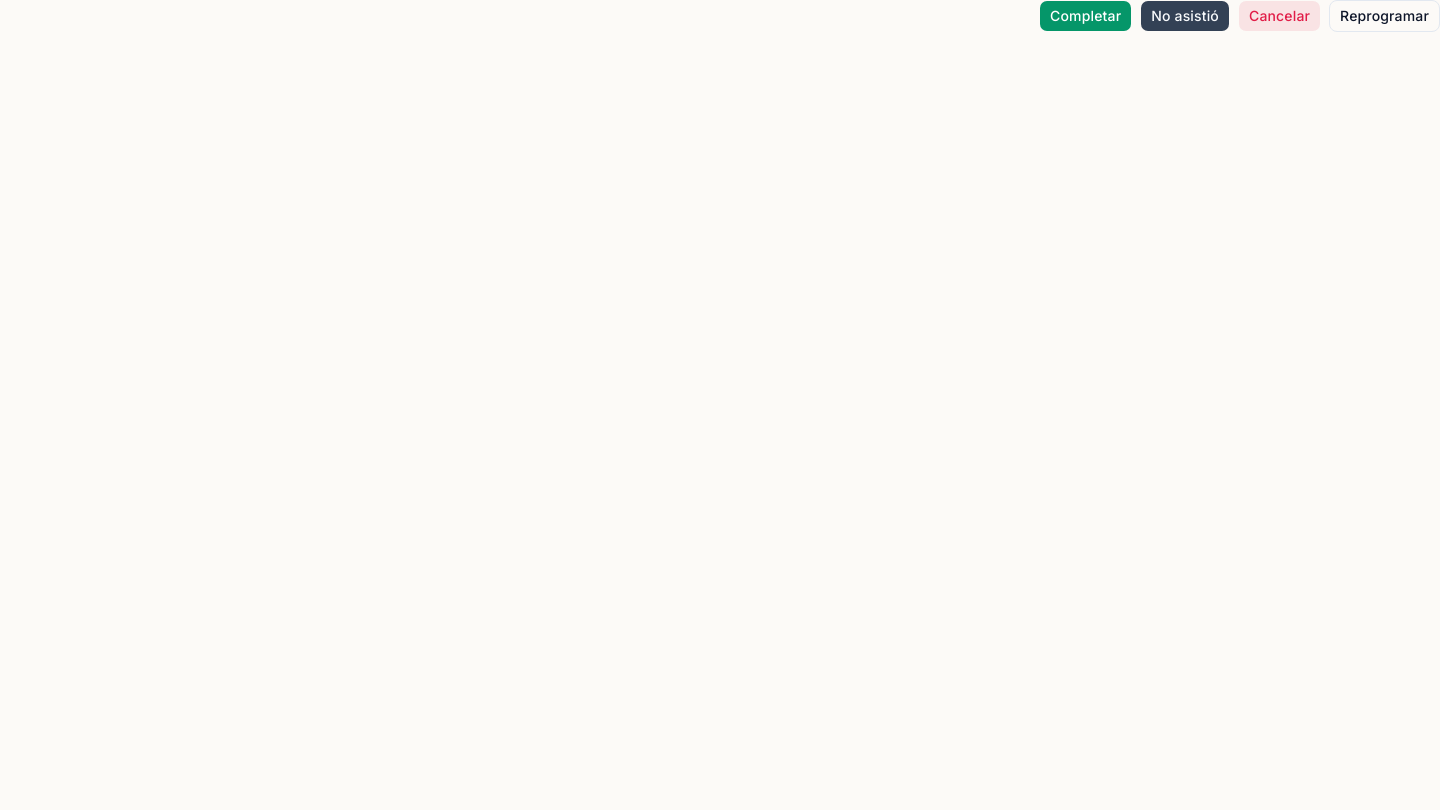
BookingDetailActions — reschedule dialog › renders the slot grid after a successful search
Click the button "Reprogramar" at [1385, 16], box [1329,0,1439,32]
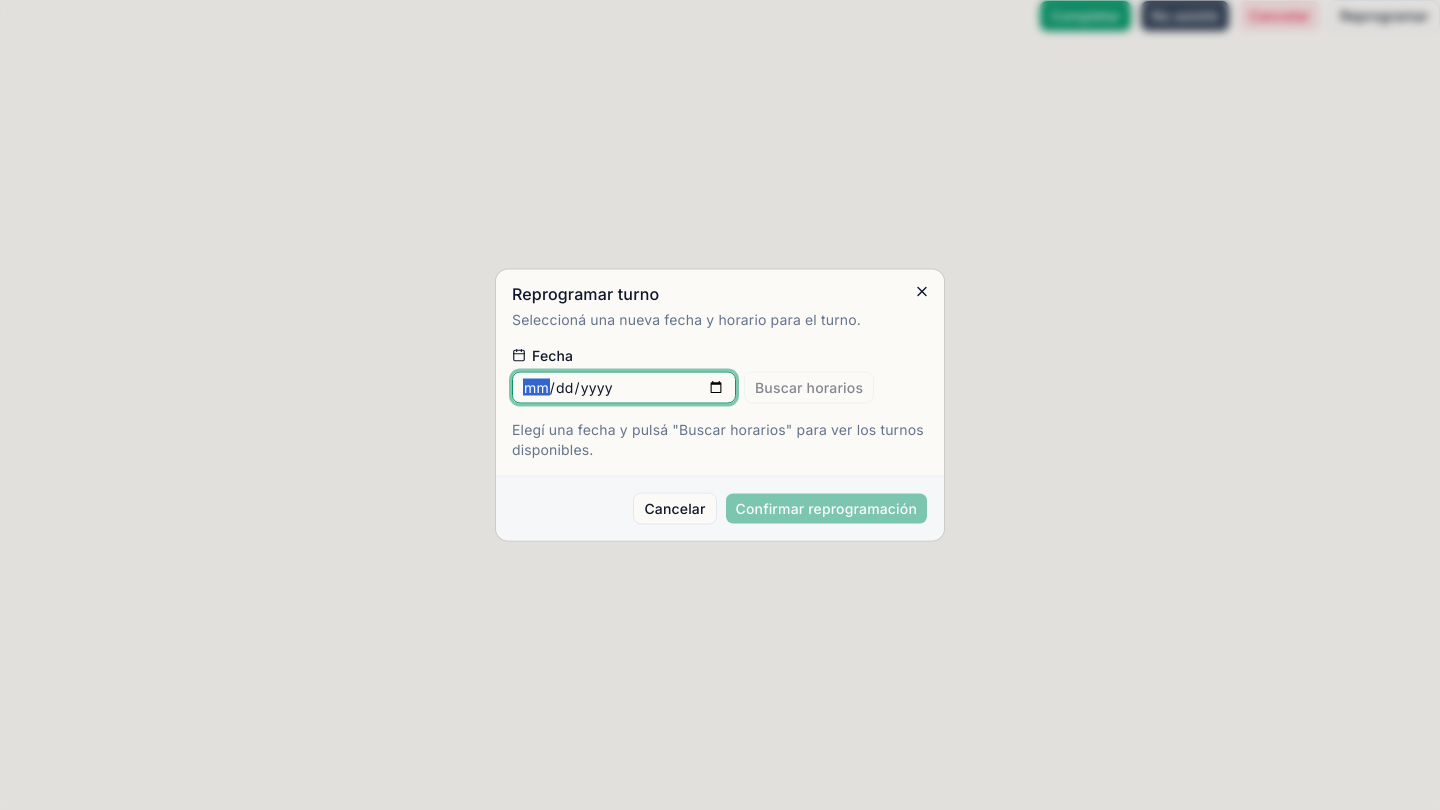
Type "2026-06-20" into the date field labelled "Fecha" at [624, 388], box [512,372,736,404]
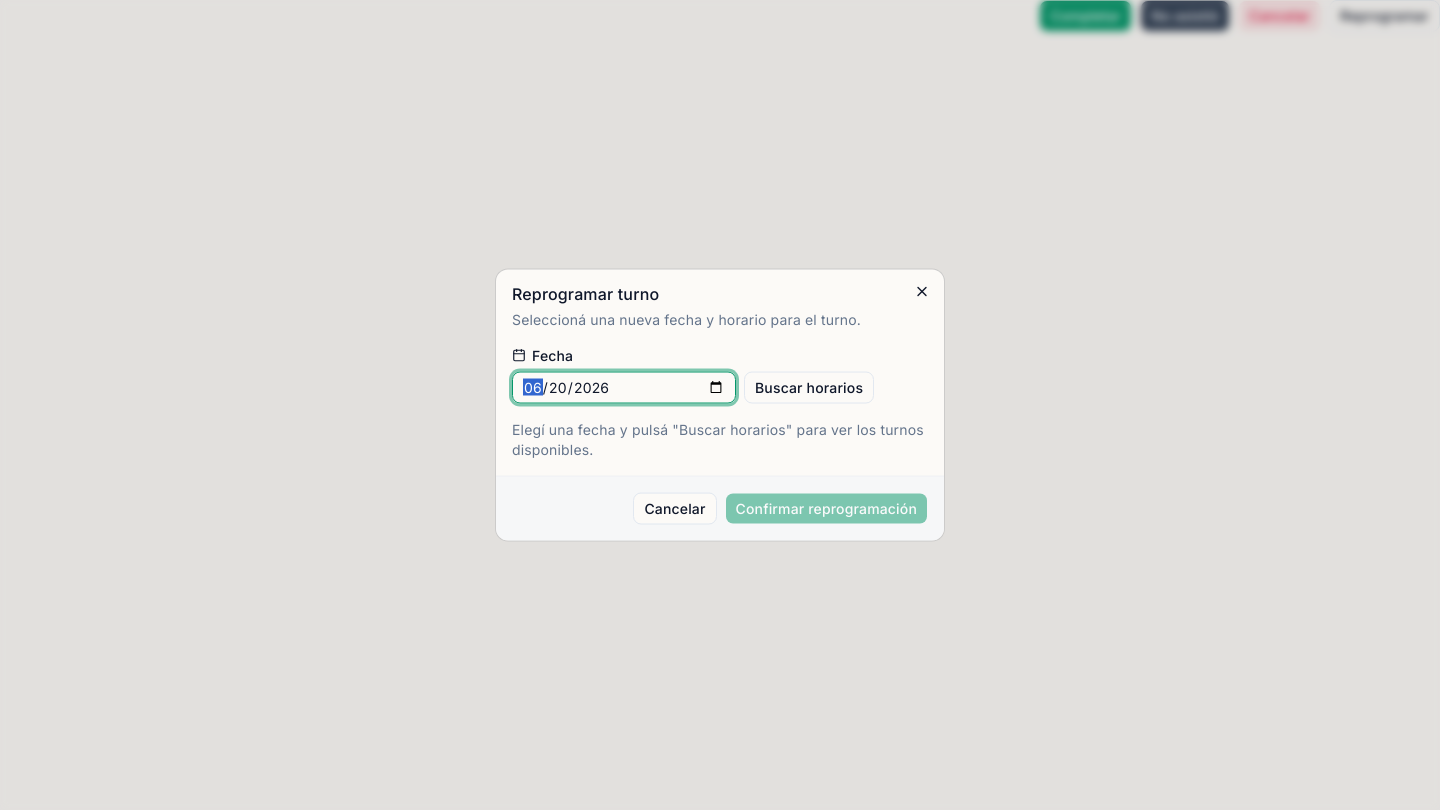
Click the button with test id "reschedule-search-button" at [809, 388], box [744,372,874,404]
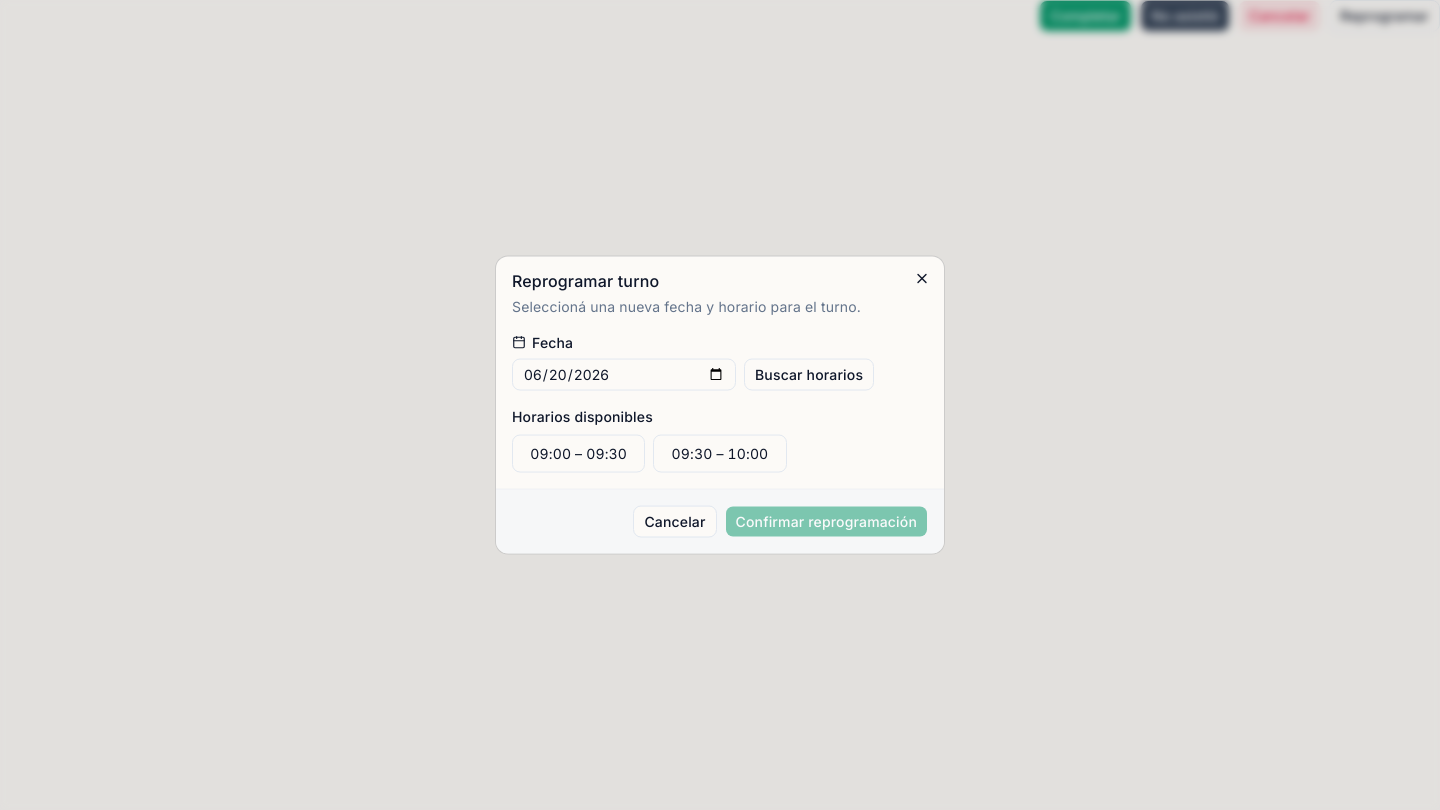
Now the list with test id "reschedule-slot-grid" is shown, box [512,434,787,472]
Now the number of buttons with test id "reschedule-slot-button" is 2, box [512,434,645,472]; [653,434,787,472]
